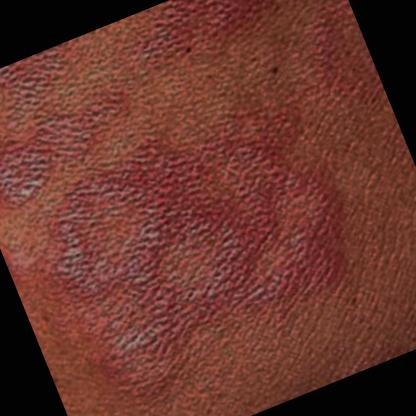Leprosy: (13, 79, 387, 416), (0, 71, 159, 228), (112, 0, 345, 77)
